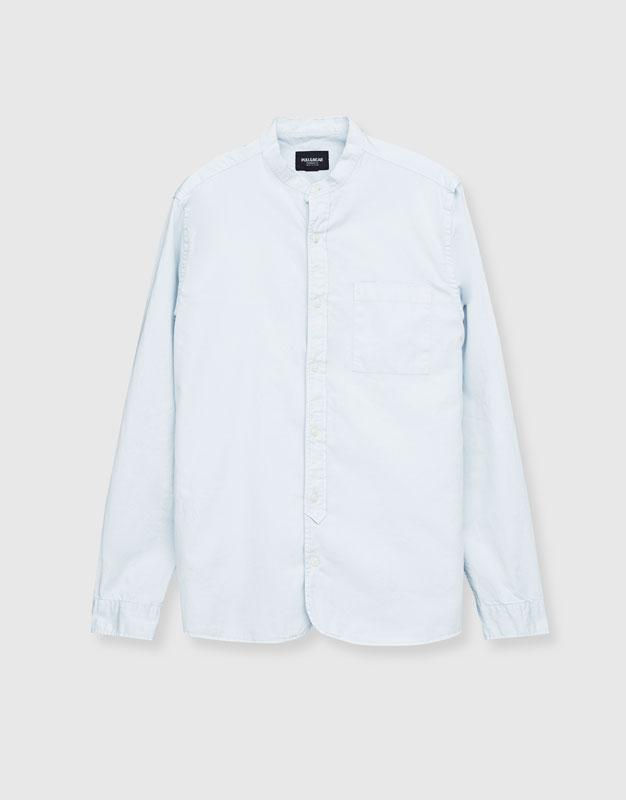teeshirt: (92, 106, 556, 662)
